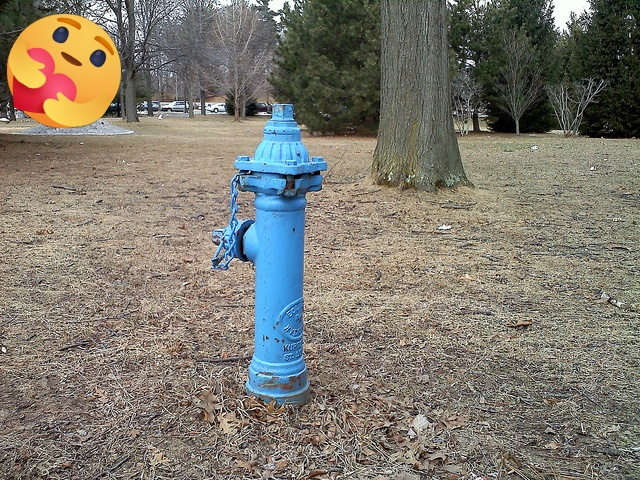care: (7, 14, 121, 128)
